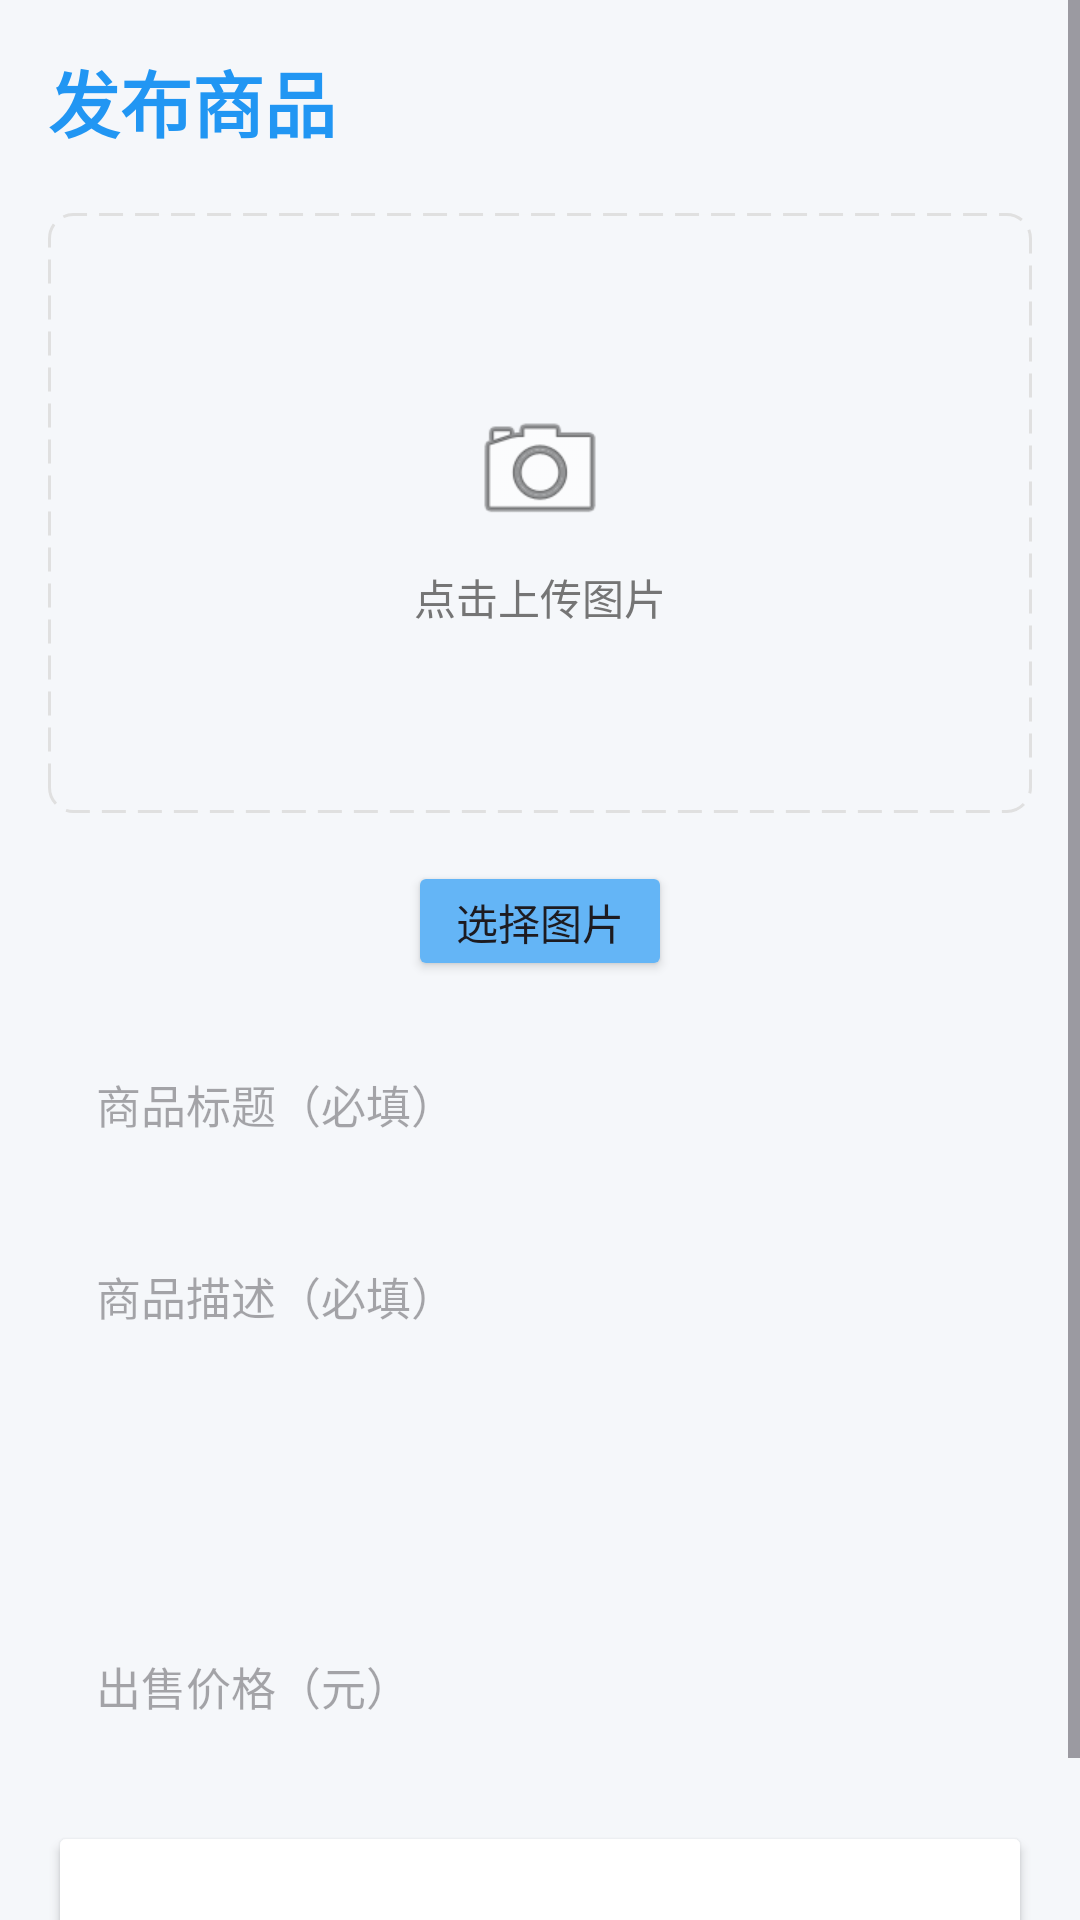

Screen size 1080 x 1920. Icon name, then its box in pixels as (x1, y1, x2, y2):
camera: (484, 423, 596, 512)
